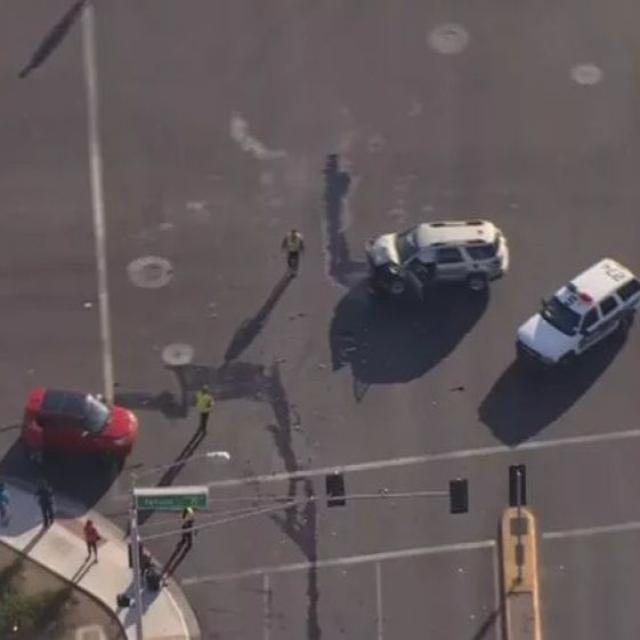traffic_incident: (359, 217, 503, 297)
